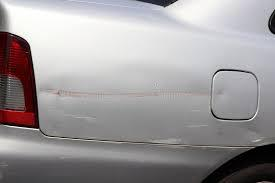quaterpanel-dent: (41, 2, 274, 145)
